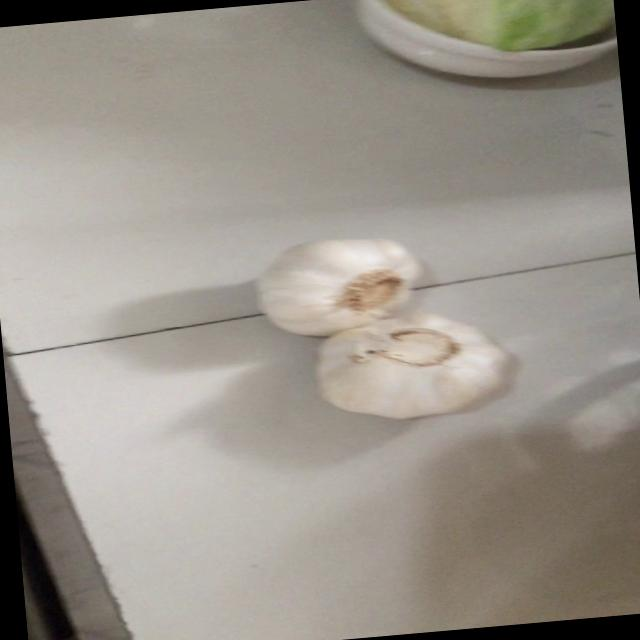bawang: (308, 304, 514, 428), (242, 229, 433, 343)
